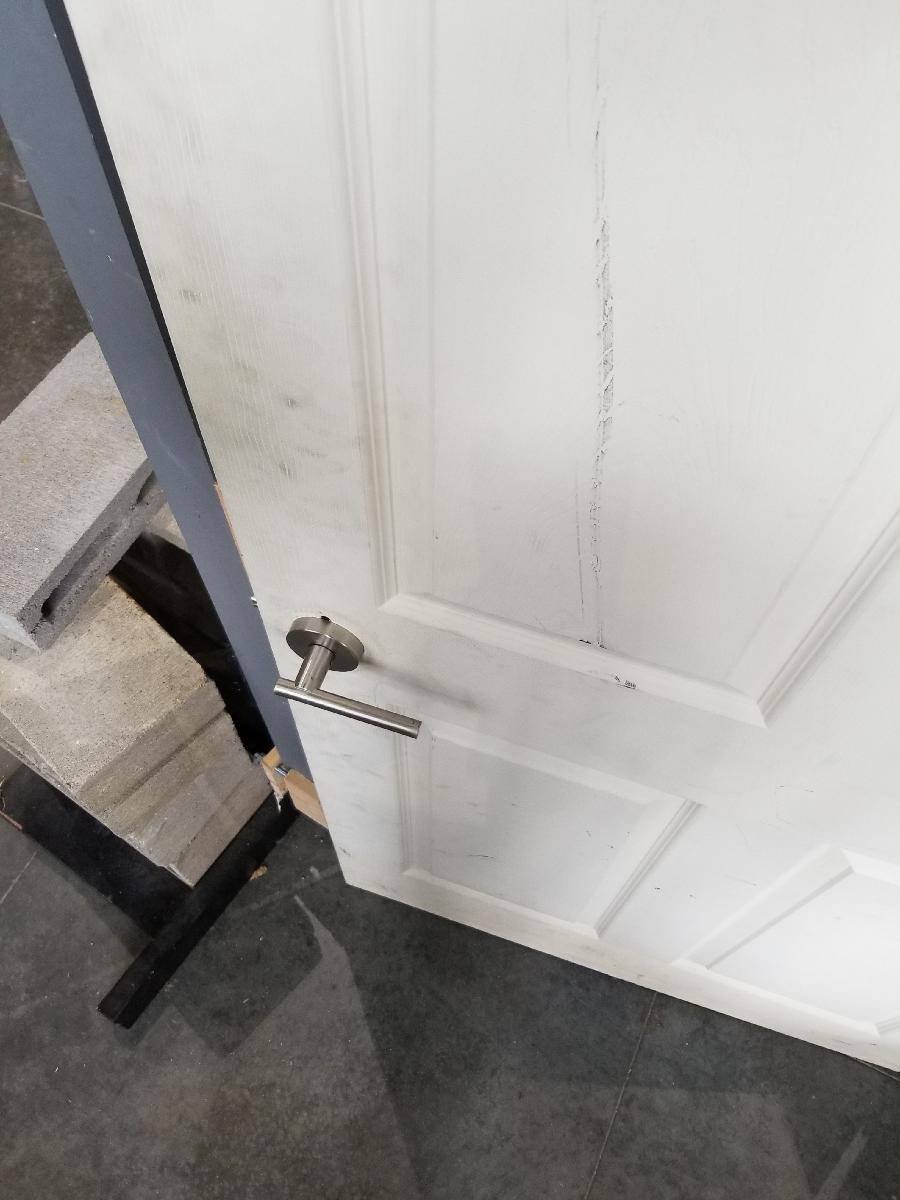doorHandle: (267, 612, 425, 742)
